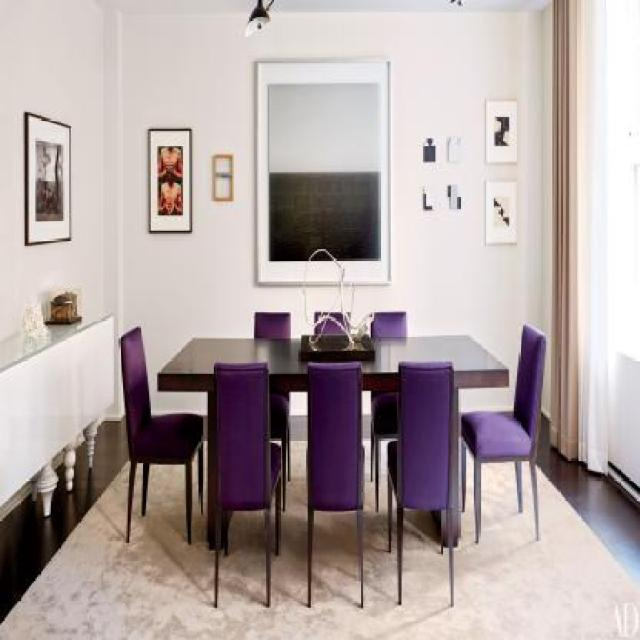floor: (0, 389, 640, 640)
